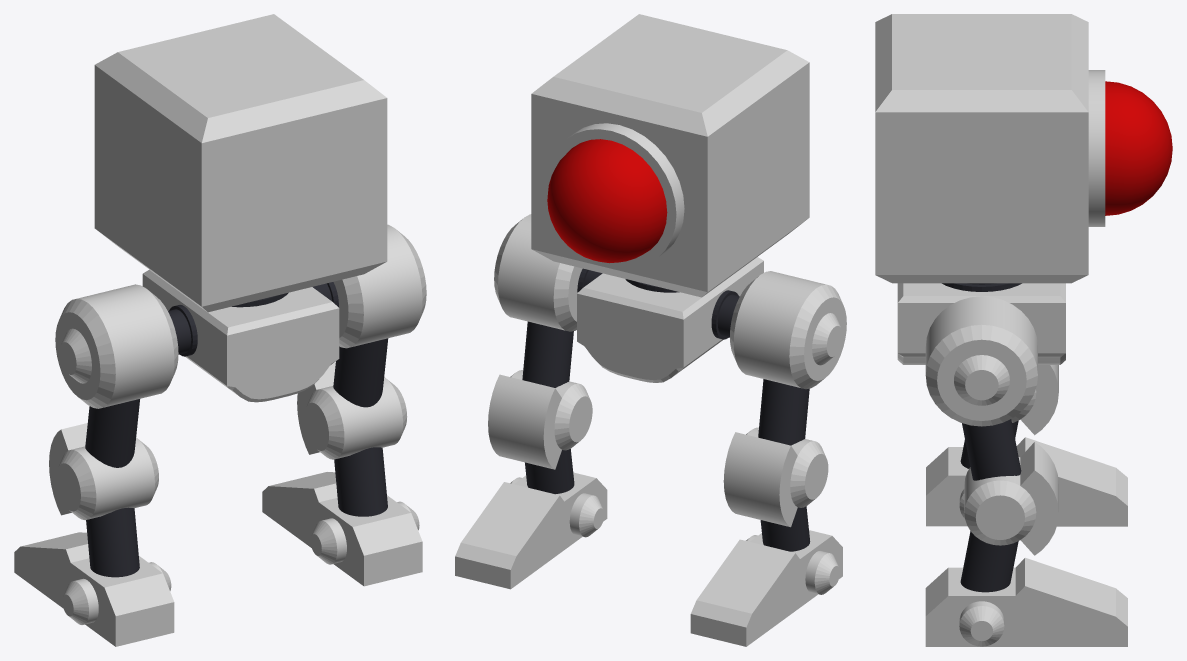
File: Infantry_003.fbx
3 views of the same model, side by side, from view 1: azimuth 30°, elevation 25°; view 2: azimuth 150°, elevation 25°; view 3: azimuth 270°, elevation 25° (orthographic). The views are drawn at different scales.
Visible parts, largest first — view 1: infantry_Head, infantry_Waist, infantry_Hip_Right, infantry_Foot_Right, infantry_Foot_Left, infantry_Hip_Left, infantry_Knee_Right, infantry_Knee_Left, infantry_Calf_Left, infantry_Calf_Right, infantry_Thigh_Right, infantry_Thigh_Left (+3 smaller); view 2: infantry_Head, infantry_Core, infantry_Waist, infantry_Hip_Right, infantry_Foot_Left, infantry_Foot_Right, infantry_Knee_Left, infantry_Knee_Right, infantry_Hip_Left, infantry_Thigh_Left, infantry_Thigh_Right, infantry_Calf_Right (+4 smaller); view 3: infantry_Head, infantry_Foot_Left, infantry_Hip_Left, infantry_Core, infantry_Foot_Right, infantry_Knee_Left, infantry_Waist, infantry_Thigh_Left, infantry_Calf_Left, infantry_Knee_Right, infantry_Ankle_Left_001, infantry_Neck.
Part boxes in pixels (x1,y1,x2,y2): infantry_Head: [94, 14, 387, 312]; infantry_Waist: [142, 269, 339, 402]; infantry_Hip_Right: [55, 284, 178, 408]; infantry_Foot_Right: [14, 532, 174, 646]; infantry_Foot_Left: [262, 472, 422, 586]; infantry_Hip_Left: [333, 224, 426, 348]; infantry_Knee_Right: [49, 423, 158, 520]; infantry_Knee_Left: [297, 362, 407, 459]; infantry_Calf_Left: [334, 447, 387, 516]; infantry_Calf_Right: [86, 507, 139, 577]; infantry_Thigh_Right: [85, 399, 139, 467]; infantry_Thigh_Left: [333, 338, 388, 407]; infantry_Head: [531, 14, 809, 297]; infantry_Core: [546, 123, 684, 268]; infantry_Waist: [577, 257, 763, 382]; infantry_Hip_Right: [730, 271, 846, 389]; infantry_Foot_Left: [455, 472, 607, 589]; infantry_Foot_Right: [690, 530, 842, 646]; infantry_Knee_Left: [488, 370, 592, 469]; infantry_Knee_Right: [723, 427, 828, 527]; infantry_Hip_Left: [494, 214, 582, 331]; infantry_Thigh_Left: [522, 321, 573, 387]; infantry_Thigh_Right: [758, 379, 809, 445]; infantry_Calf_Right: [760, 506, 810, 551]; infantry_Head: [875, 14, 1088, 283]; infantry_Foot_Left: [925, 557, 1127, 646]; infantry_Hip_Left: [925, 296, 1037, 426]; infantry_Core: [1088, 70, 1172, 226]; infantry_Foot_Right: [926, 437, 1127, 526]; infantry_Knee_Left: [964, 442, 1058, 555]; infantry_Waist: [897, 283, 1065, 364]; infantry_Thigh_Left: [962, 419, 1021, 480]; infantry_Calf_Left: [960, 531, 1018, 592]; infantry_Knee_Right: [1011, 365, 1058, 435]; infantry_Ankle_Left_001: [959, 601, 1004, 646]; infantry_Neck: [942, 283, 1021, 291].
Size of the model in its own units: 35.4 by 51.16 by 26.5.
